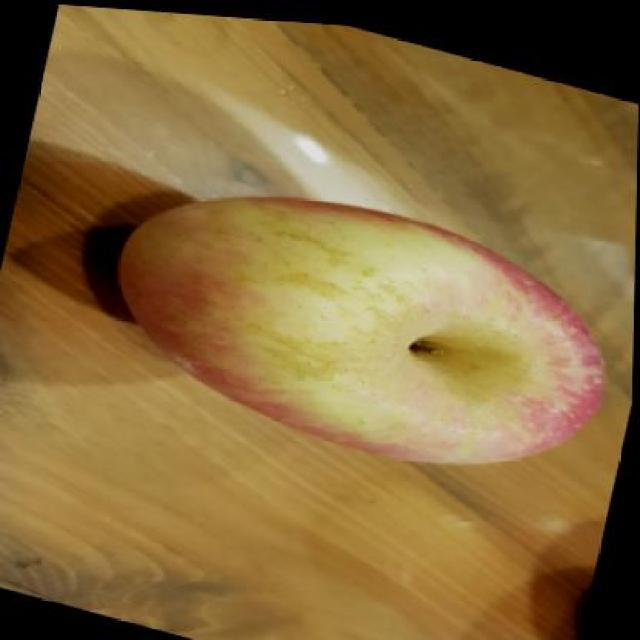Fresh Apple: (113, 193, 620, 474)
